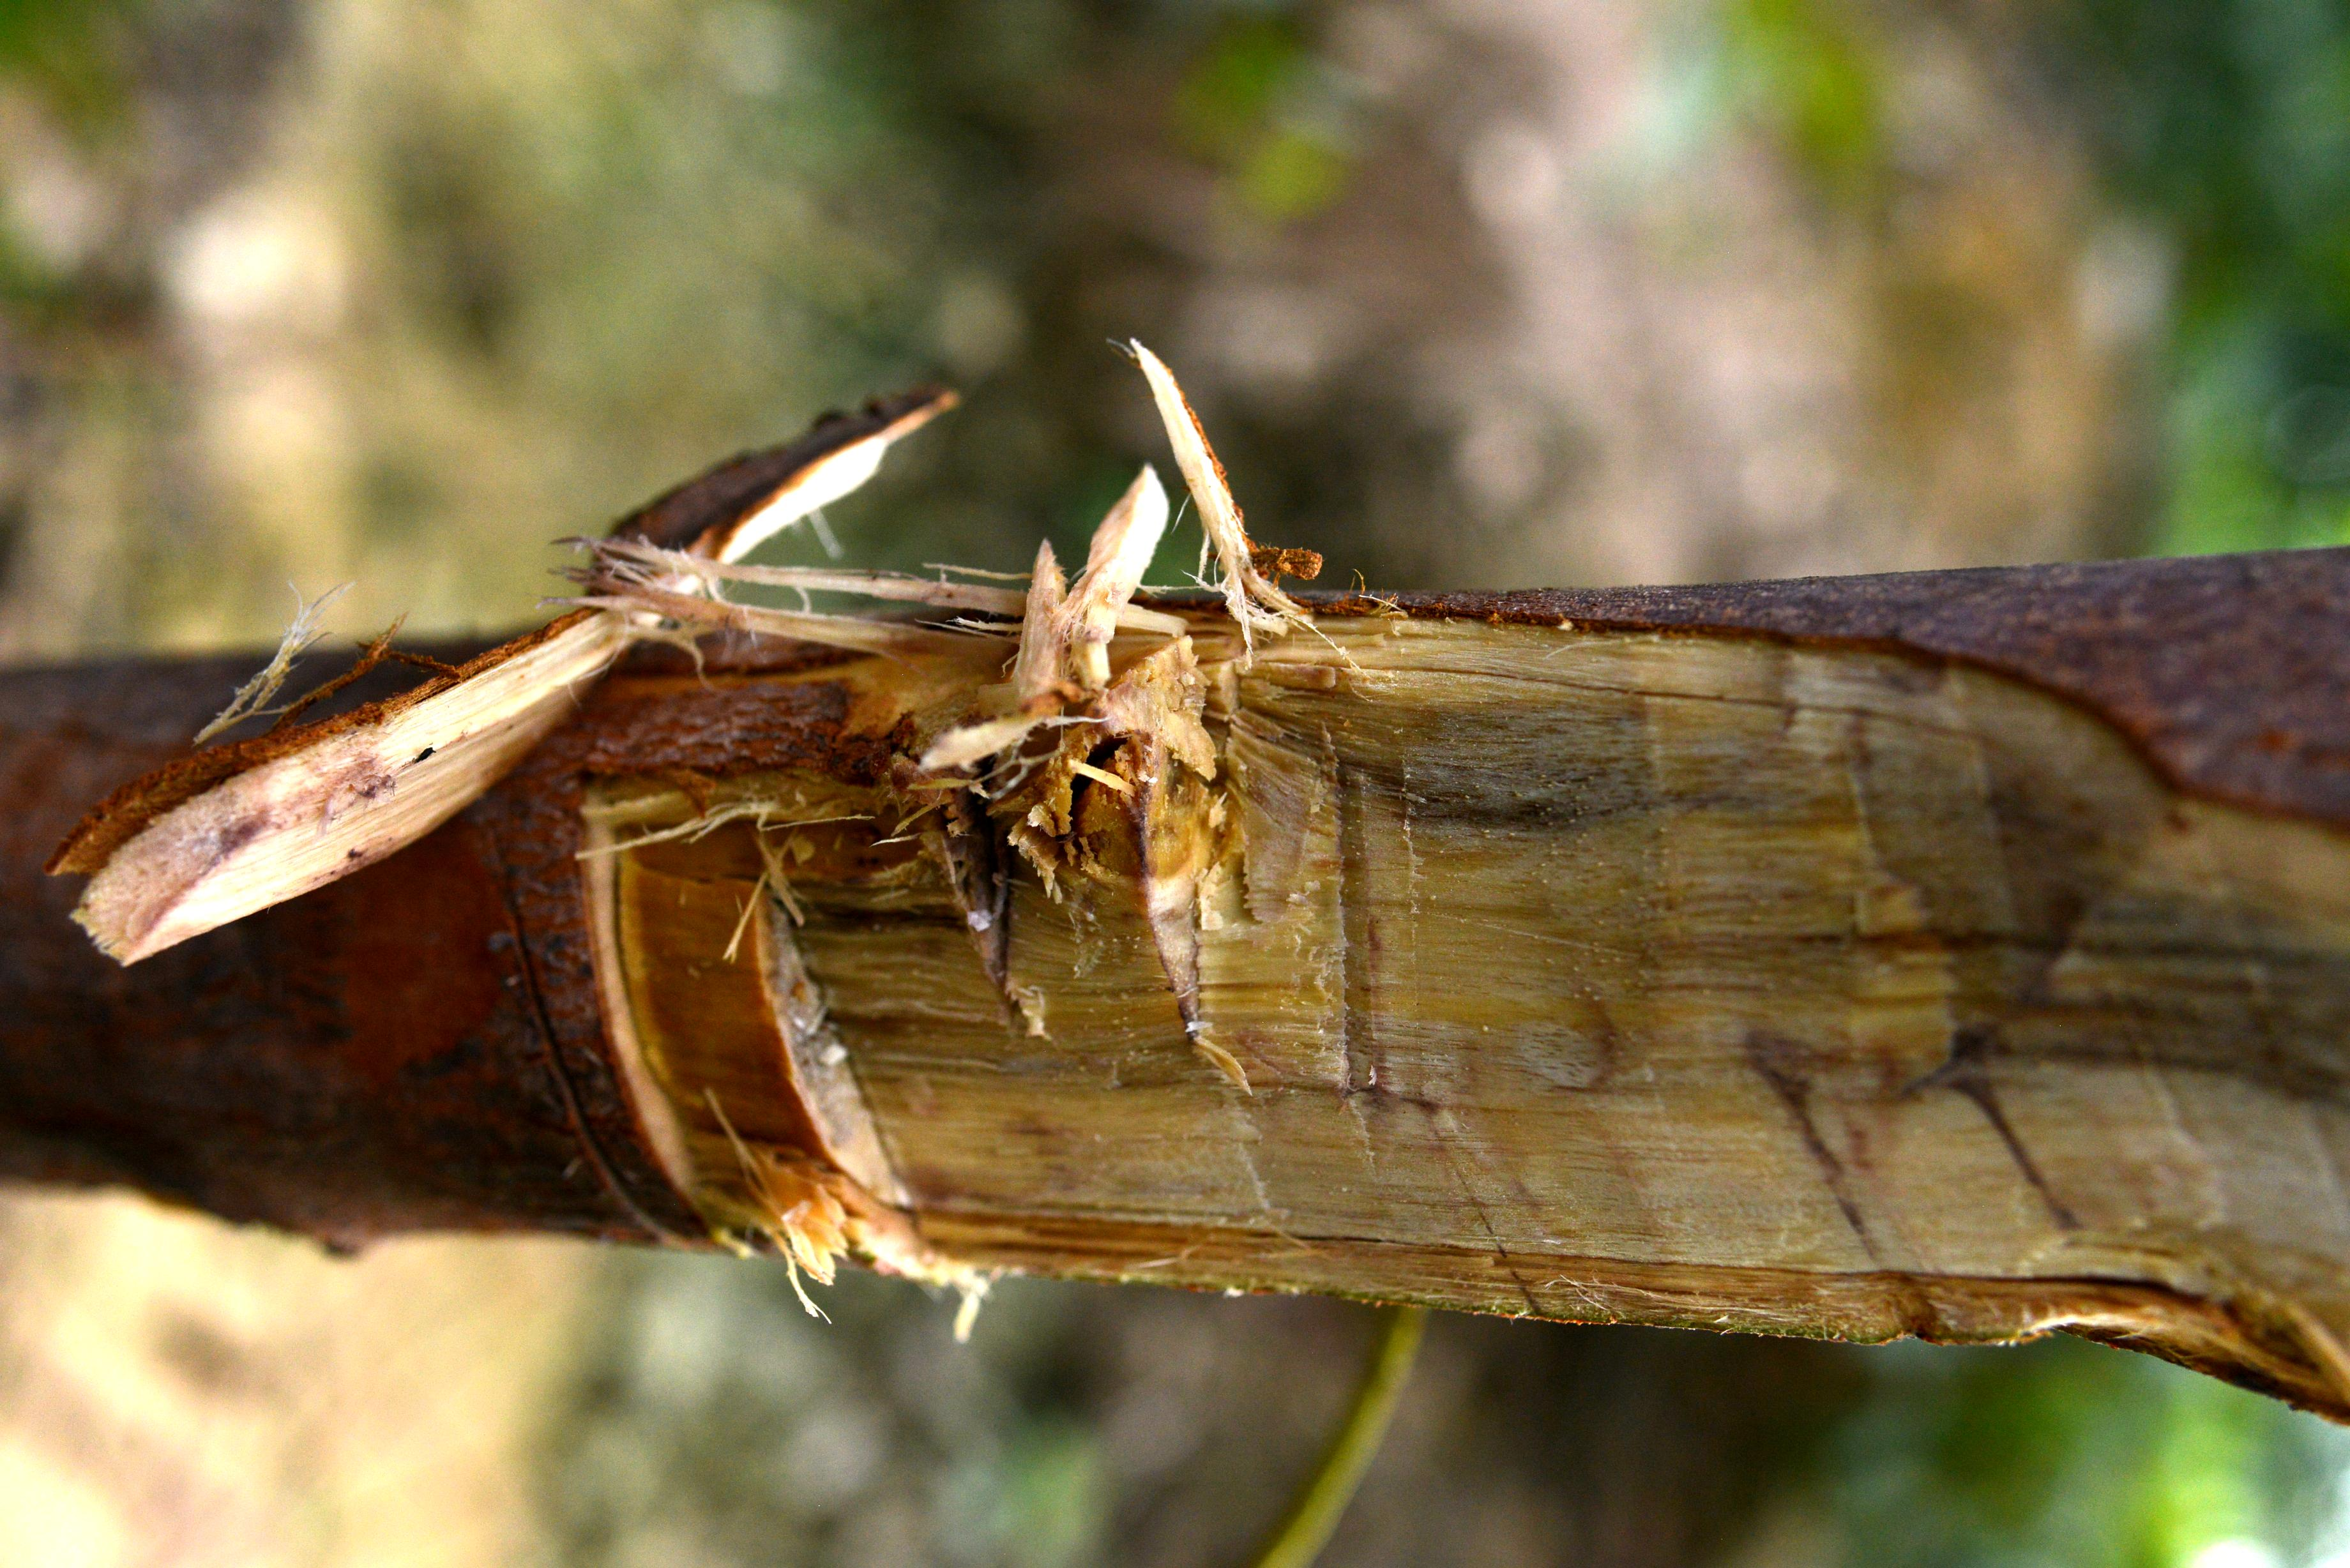Ralstonia: (563, 635, 2350, 1302)
